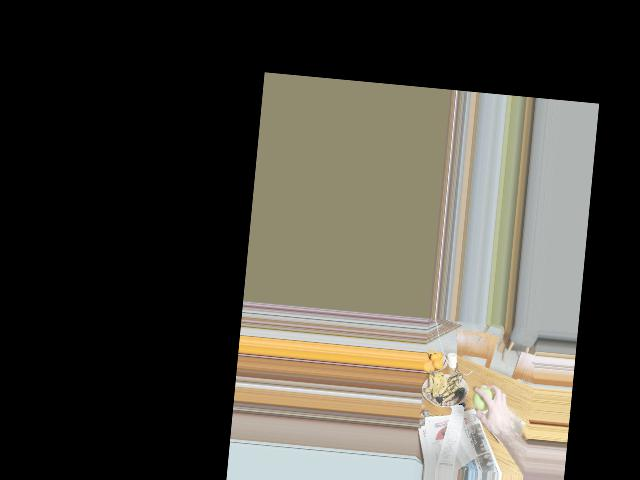apple: (472, 386, 496, 412)
